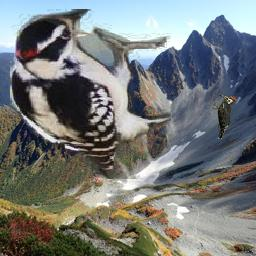Woodpecker: (11, 9, 172, 179), (211, 95, 237, 140)
